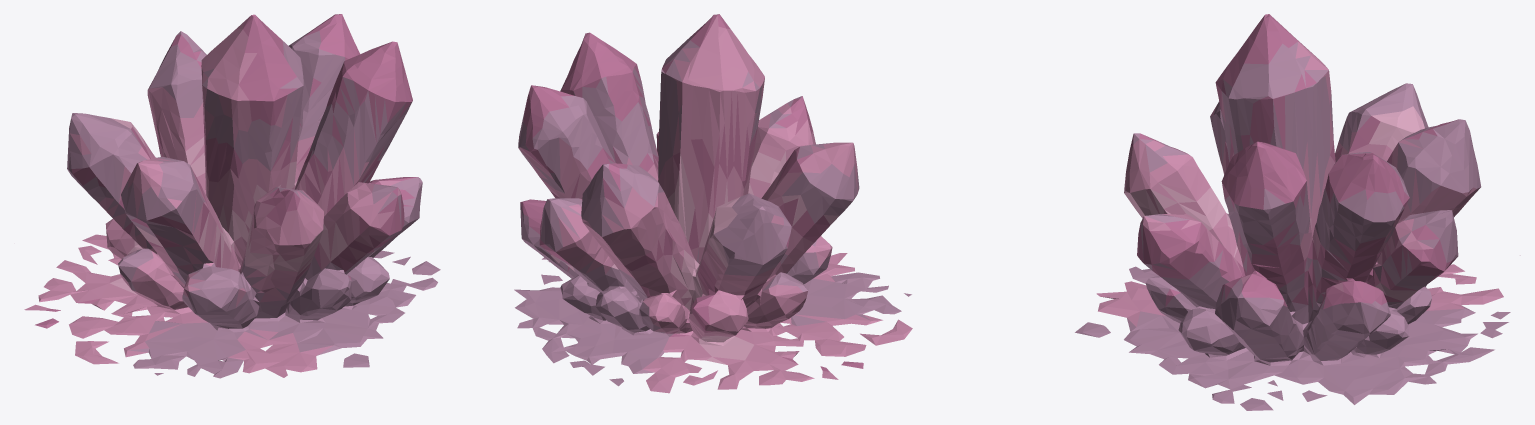
File: crystal_pink.glb
3 views of the same model, side by side, from view 1: azimuth 30°, elevation 25°; view 2: azimuth 150°, elevation 25°; view 3: azimuth 270°, elevation 25° (orthographic). The views are drawn at different scales.
Visible parts, largest first — view 1: geometry_0; view 2: geometry_0; view 3: geometry_0.
Part boxes in pixels (box(x1,y1,x2,y2)): geometry_0: box(24, 14, 440, 378); geometry_0: box(514, 14, 912, 393); geometry_0: box(1075, 14, 1520, 410).
Size of the model in its own units: 1.74 by 1.3 by 1.76.
